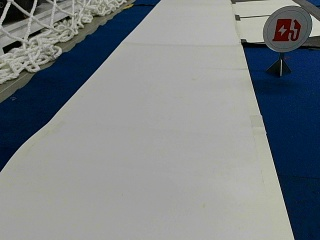battery: (262, 5, 310, 52)
